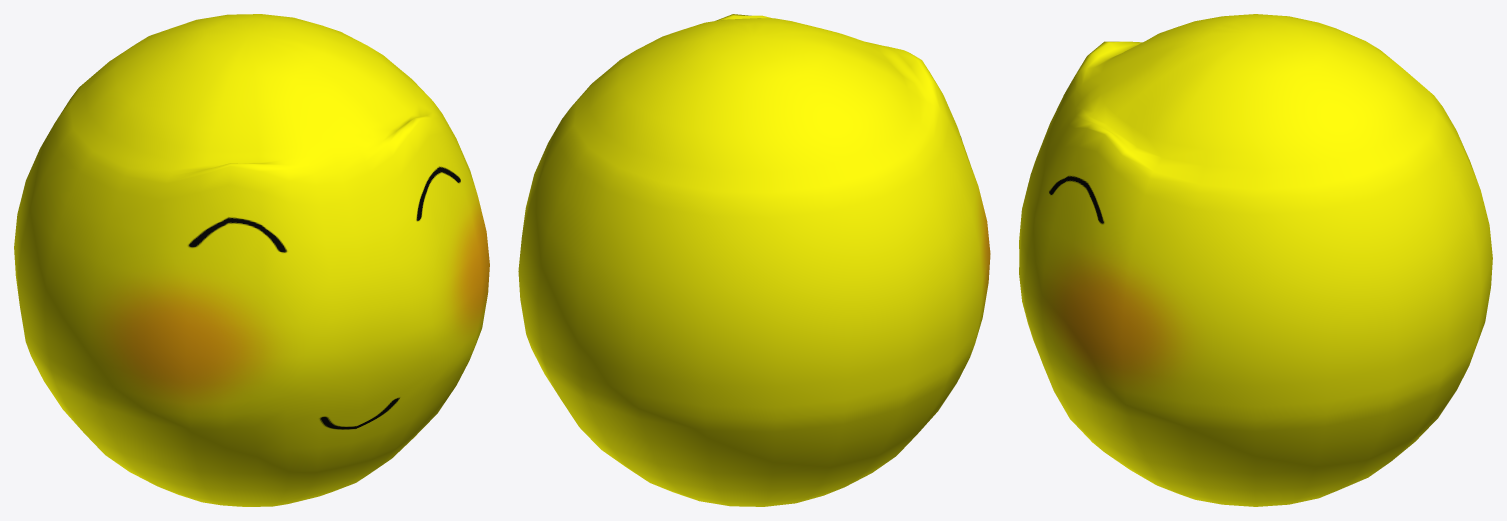
File: smile_reaction.glb
The picture shows the model from 3 angles, left to right: view 1: azimuth 30°, elevation 25°; view 2: azimuth 150°, elevation 25°; view 3: azimuth 270°, elevation 25°; orthographic projection.
Parts seen in each view (by area): view 1: SmileText; view 2: SmileText; view 3: SmileText.
Boxes of the visible parts, <box> form: SmileText: <box>14,14,489,506</box>; SmileText: <box>518,14,990,506</box>; SmileText: <box>1019,14,1492,506</box>.
Size of the model in its own units: 2.41 by 2.54 by 2.41.
1 material, 1 textured.
